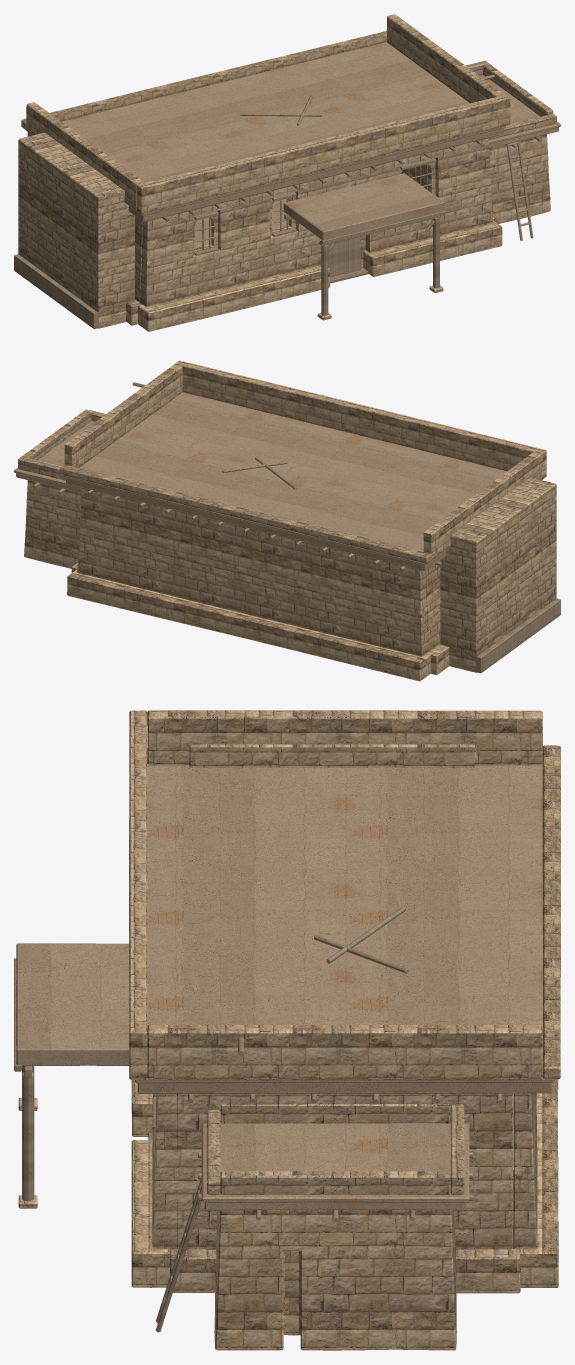
3 views of the same model, one above another, from view 1: azimuth 30°, elevation 25°; view 2: azimuth 150°, elevation 25°; view 3: azimuth 270°, elevation 25° (orthographic). The views are drawn at different scales.
Parts seen in each view (by area): view 1: house; view 2: house; view 3: house.
Part boxes in pixels (left/top/right/bottom): house: left=14, top=14, right=560, bottom=331; house: left=14, top=360, right=560, bottom=681; house: left=14, top=710, right=560, bottom=1350.
Size of the model in its own units: 17.22 by 5.34 by 9.65.
Materials: 3 (3 with a texture image).
